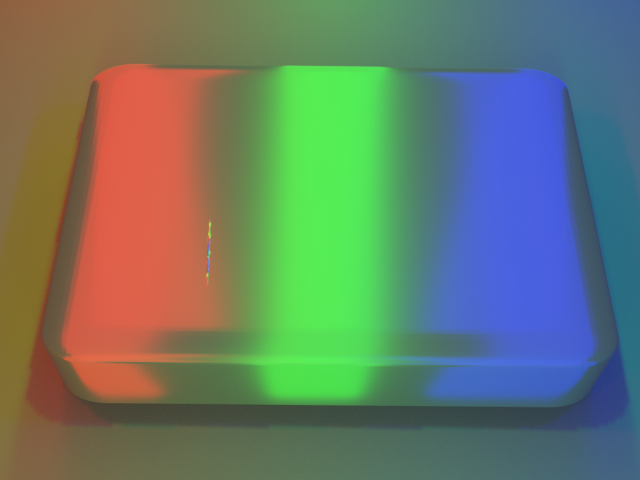scratch: (41, 169, 347, 349)
